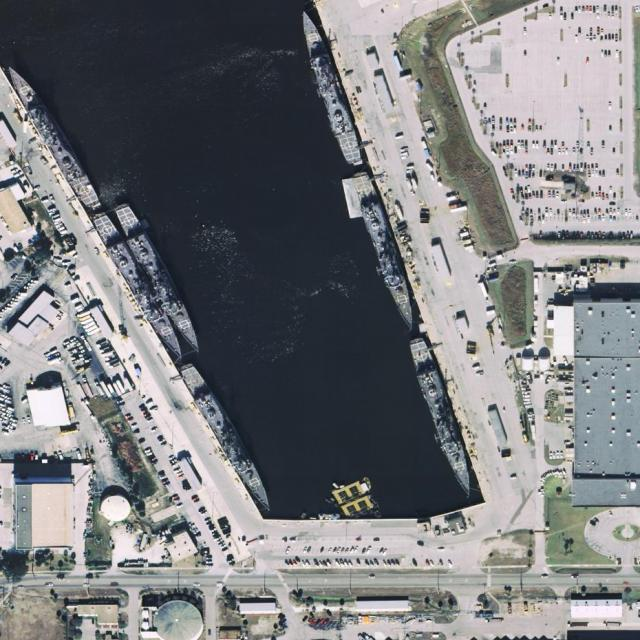Frigate: (178, 359, 277, 514), (88, 207, 187, 360), (3, 60, 101, 210), (114, 202, 206, 356), (407, 337, 480, 499), (350, 169, 422, 331), (296, 7, 363, 167)
